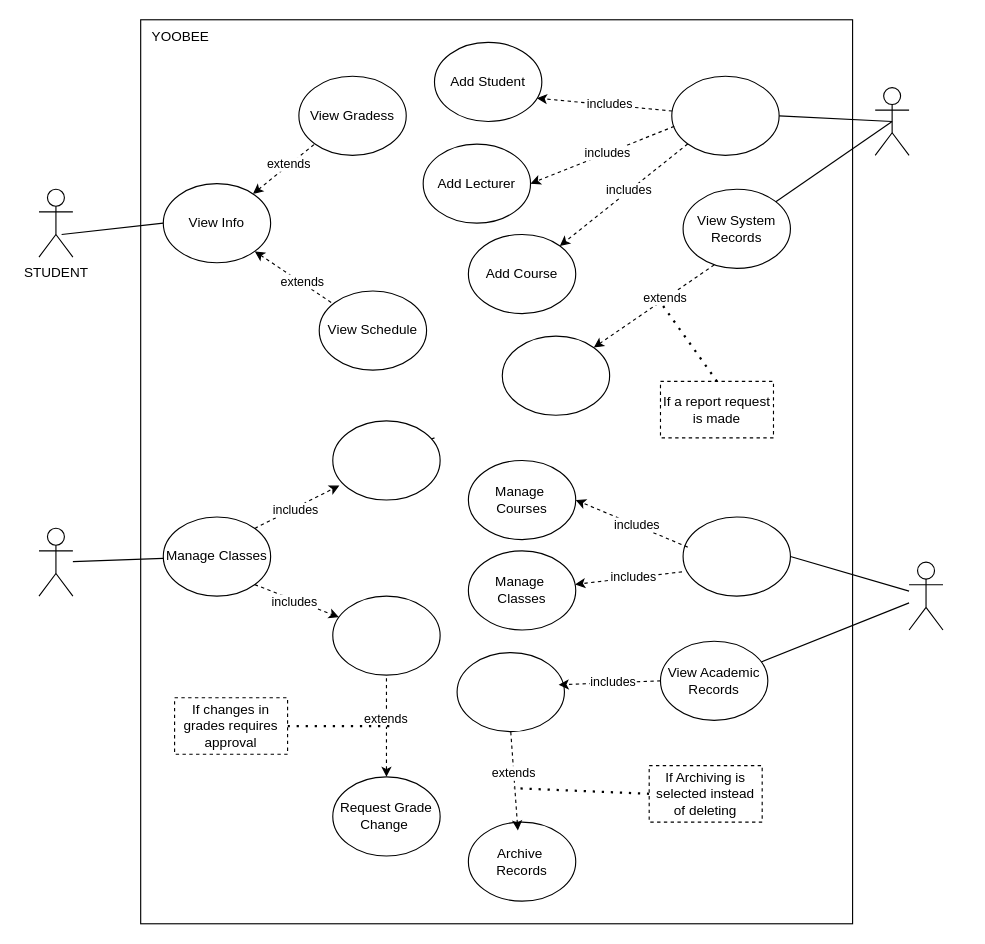
Some shapes in this 985 by 944 pixel diagram are drawn without their labels. The centre of each missing label's shape, as x and y in pixels:
Add/Remove Records: (x=725, y=115)
ADMIN: (x=891, y=120)
Delete Records: (x=510, y=691)
Generate Report: (x=555, y=375)
Input/Update Grades: (x=386, y=635)
LECTURER: (x=55, y=561)
Manage Enrolled Students: (x=736, y=556)
REGISTRAR: (x=925, y=595)
View Classes: (x=386, y=460)
